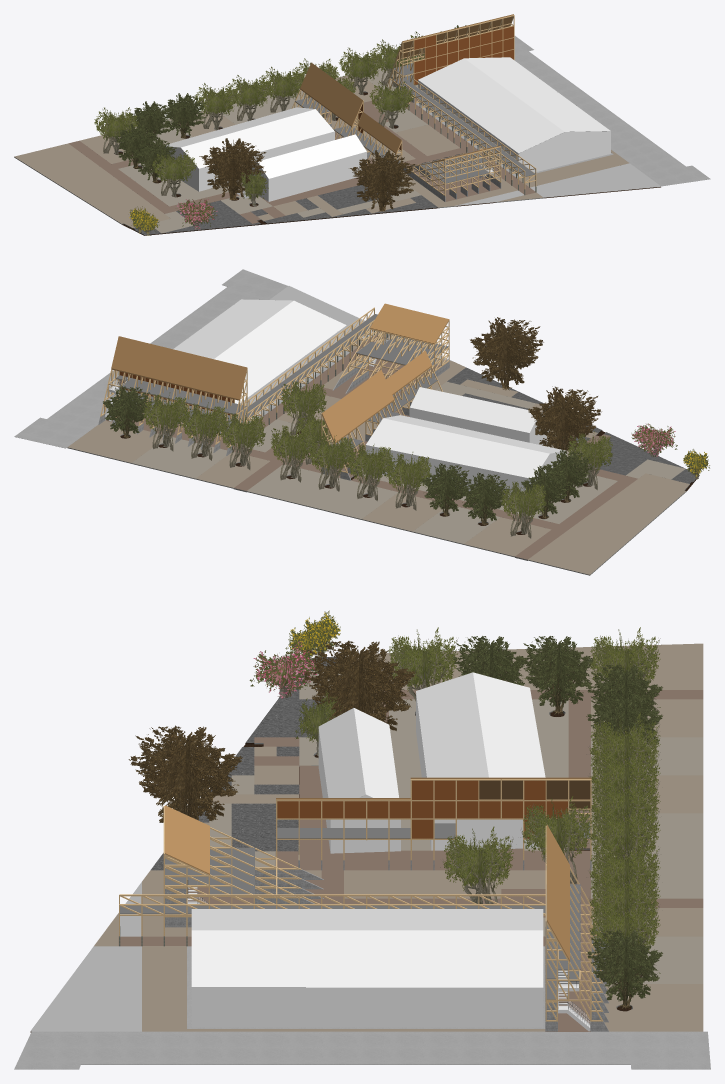
Rendered from deportivo-quintin-arauz--001-cor-pcq-bim-a-deportivo-quintin-arauz.glb.
3 renders of one model, top to bottom at view 1: azimuth 30°, elevation 25°; view 2: azimuth 150°, elevation 25°; view 3: azimuth 270°, elevation 25°, orthographic. The views are drawn at different scales.
Visible parts, largest first — view 1: Basic Roof - Generic Roof - 150mm [802257], Floor - BIM_LOADING-Piedra Grande [796582], Floor - BIM_LOADING-Piedra Rectangular [797197], Floor - BIM_LOADING-Piso Pulido [799630], Basic Roof - Generic Roof - 150mm [800400], Floor - BIM_LOADING-Piedra chica 2 [796811], Basic Wall - BIM_LOADING-Muro 250mm [801573], M_RPC Tree - Deciduous - Scarlet Oak - 12.5 Meters [800047], Floor - BIM_LOADING-Jardín [798111], Floor - BIM_LOADING-Piso de Plazoleta 2 [799600], M_RPC Tree - Deciduous - Scarlet Oak - 12.5 Meters [799983], Basic Wall - BIM_LOADING-M1 [800885] (+30 smaller); view 2: Floor - BIM_LOADING-Piedra Grande [796582], Floor - BIM_LOADING-Piedra Rectangular [797197], Basic Roof - Generic Roof - 150mm [802257], Basic Roof - Generic Roof - 150mm [800400], Floor - BIM_LOADING-Piso Pulido [799630], Basic Roof - BIM_LOADING-PALMA 1 [882216], Floor - BIM_LOADING-Piedra chica 2 [796811], M_RPC Tree - Deciduous - Scarlet Oak - 12.5 Meters [800047], M_RPC Tree - Deciduous - Scarlet Oak - 12.5 Meters [799983], Basic Roof - Generic Roof - 150mm [800973], Basic Roof - BIM_LOADING-PALMA 1 [883031], Floor - BIM_LOADING-Jardín [798111] (+26 smaller); view 3: Basic Roof - Generic Roof - 150mm [802257], Floor - BIM_LOADING-Piso Pulido [799630], Floor - BIM_LOADING-Piedra Grande [796582], Floor - BIM_LOADING-Piedra Rectangular [797197], Basic Wall - BIM_LOADING-Muro 250mm [801723], Basic Roof - Generic Roof - 150mm [800400], Floor - BIM_LOADING-Piedra chica 2 [796811], Floor - BIM_LOADING-Piso de Plazoleta 2 [799600], M_RPC Tree - Deciduous - Scarlet Oak - 12.5 Meters [800047], M_RPC Tree - Deciduous - Scarlet Oak - 12.5 Meters [799983], Basic Roof - Generic Roof - 150mm [800973], Floor - BIM_LOADING-Piedra Grande [799062] (+35 smaller).
Part boxes in pixels (<box>): Basic Roof - Generic Roof - 150mm [802257]: <box>418,57,610,153</box>; Floor - BIM_LOADING-Piedra Grande [796582]: <box>14,59,459,228</box>; Floor - BIM_LOADING-Piedra Rectangular [797197]: <box>118,60,427,233</box>; Floor - BIM_LOADING-Piso Pulido [799630]: <box>514,36,710,186</box>; Basic Roof - Generic Roof - 150mm [800400]: <box>166,107,334,168</box>; Floor - BIM_LOADING-Piedra chica 2 [796811]: <box>68,98,466,213</box>; Basic Wall - BIM_LOADING-Muro 250mm [801573]: <box>520,131,610,175</box>; M_RPC Tree - Deciduous - Scarlet Oak - 12.5 Meters [800047]: <box>349,150,415,211</box>; Floor - BIM_LOADING-Jardín [798111]: <box>162,195,438,234</box>; Floor - BIM_LOADING-Piso de Plazoleta 2 [799600]: <box>530,163,661,197</box>; M_RPC Tree - Deciduous - Scarlet Oak - 12.5 Meters [799983]: <box>199,138,266,200</box>; Basic Wall - BIM_LOADING-M1 [800885]: <box>269,152,366,201</box>; Floor - BIM_LOADING-Piedra Grande [796582]: <box>67,379,689,575</box>; Floor - BIM_LOADING-Piedra Rectangular [797197]: <box>131,381,685,544</box>; Basic Roof - Generic Roof - 150mm [802257]: <box>173,299,346,403</box>; Basic Roof - Generic Roof - 150mm [800400]: <box>366,415,565,477</box>; Floor - BIM_LOADING-Piso Pulido [799630]: <box>14,269,287,448</box>; Basic Roof - BIM_LOADING-PALMA 1 [882216]: <box>111,336,247,400</box>; Floor - BIM_LOADING-Piedra chica 2 [796811]: <box>233,374,637,560</box>; M_RPC Tree - Deciduous - Scarlet Oak - 12.5 Meters [800047]: <box>470,317,543,390</box>; M_RPC Tree - Deciduous - Scarlet Oak - 12.5 Meters [799983]: <box>528,386,601,452</box>; Basic Roof - Generic Roof - 150mm [800973]: <box>410,387,535,432</box>; Basic Roof - BIM_LOADING-PALMA 1 [883031]: <box>322,370,394,443</box>; Floor - BIM_LOADING-Jardín [798111]: <box>447,367,684,475</box>; Basic Roof - Generic Roof - 150mm [802257]: <box>191,909,543,987</box>; Floor - BIM_LOADING-Piso Pulido [799630]: <box>14,1031,710,1069</box>; Floor - BIM_LOADING-Piedra Grande [796582]: <box>203,643,703,1031</box>; Floor - BIM_LOADING-Piedra Rectangular [797197]: <box>209,671,703,983</box>; Basic Wall - BIM_LOADING-Muro 250mm [801723]: <box>194,987,543,1027</box>; Basic Roof - Generic Roof - 150mm [800400]: <box>416,672,545,777</box>; Floor - BIM_LOADING-Piedra chica 2 [796811]: <box>299,690,703,936</box>; Floor - BIM_LOADING-Piso de Plazoleta 2 [799600]: <box>30,946,141,1031</box>; M_RPC Tree - Deciduous - Scarlet Oak - 12.5 Meters [800047]: <box>128,725,242,822</box>; M_RPC Tree - Deciduous - Scarlet Oak - 12.5 Meters [799983]: <box>302,640,415,730</box>; Basic Roof - Generic Roof - 150mm [800973]: <box>318,708,398,797</box>; Floor - BIM_LOADING-Piedra Grande [799062]: <box>142,946,545,1031</box>.
Size of the model in its own units: 110 by 14.94 by 75.73.
Materials: 31 (20 with a texture image).
